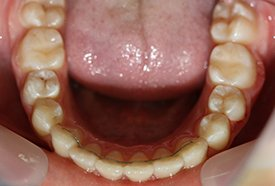LL1BC_healthy: (199, 113, 229, 148)
LL1M_healthy: (210, 44, 256, 87)
LL2BC_healthy: (209, 85, 244, 118)
LL2M_decay: (211, 3, 256, 41)
LLCI_decay: (125, 155, 152, 182)
LLC_decay: (177, 138, 208, 167)
LLLI_decay: (154, 149, 182, 177)
LR1BC_healthy: (32, 100, 62, 132)
LR1M_healthy: (21, 28, 65, 69)
LR2BC_decay: (25, 69, 60, 97)
LR2M_decay: (23, 1, 65, 27)
LRCI_decay: (99, 152, 124, 180)
LRC_decay: (52, 124, 83, 155)
LRLI_decay: (76, 143, 100, 170)
